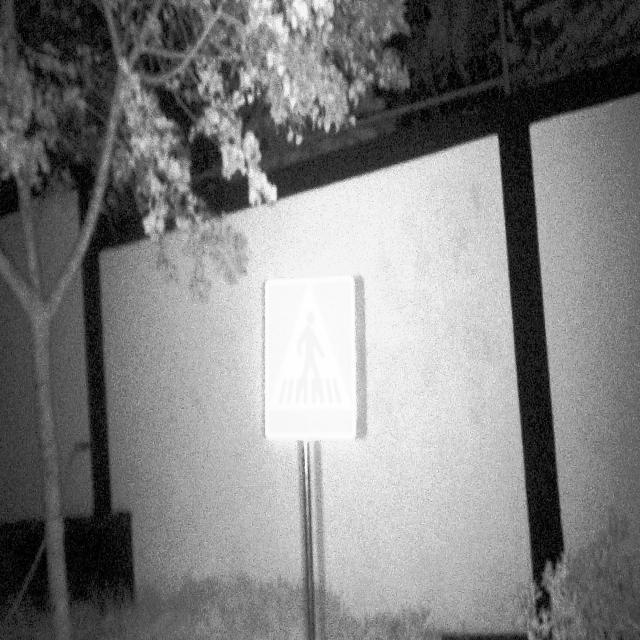Sign: (262, 271, 358, 445)
